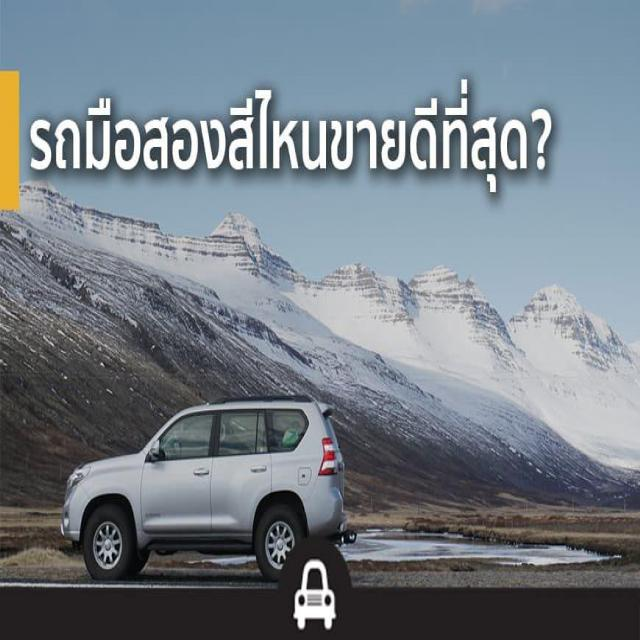back_left_door: (211, 408, 272, 535)
back_left_light: (318, 437, 337, 476)
front_left_door: (141, 411, 218, 536)
front_left_light: (65, 466, 91, 491)
left_mirror: (151, 438, 160, 457)
wheel: (256, 503, 305, 582), (83, 505, 132, 579)
